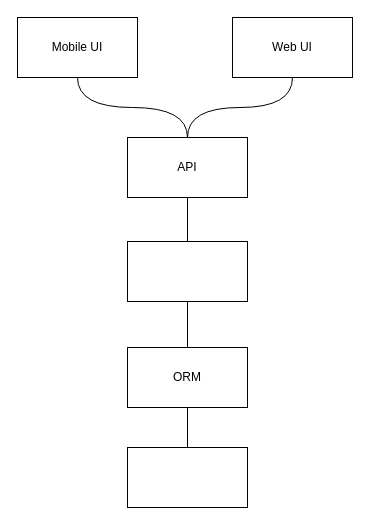
The diagram is 370 pixels wide and 525 high, and some of its shapes have lost their labels. The centre of each missing label's shape, as x and y in pixels:
Business Logic: pixel 187 271
DB: pixel 187 477
